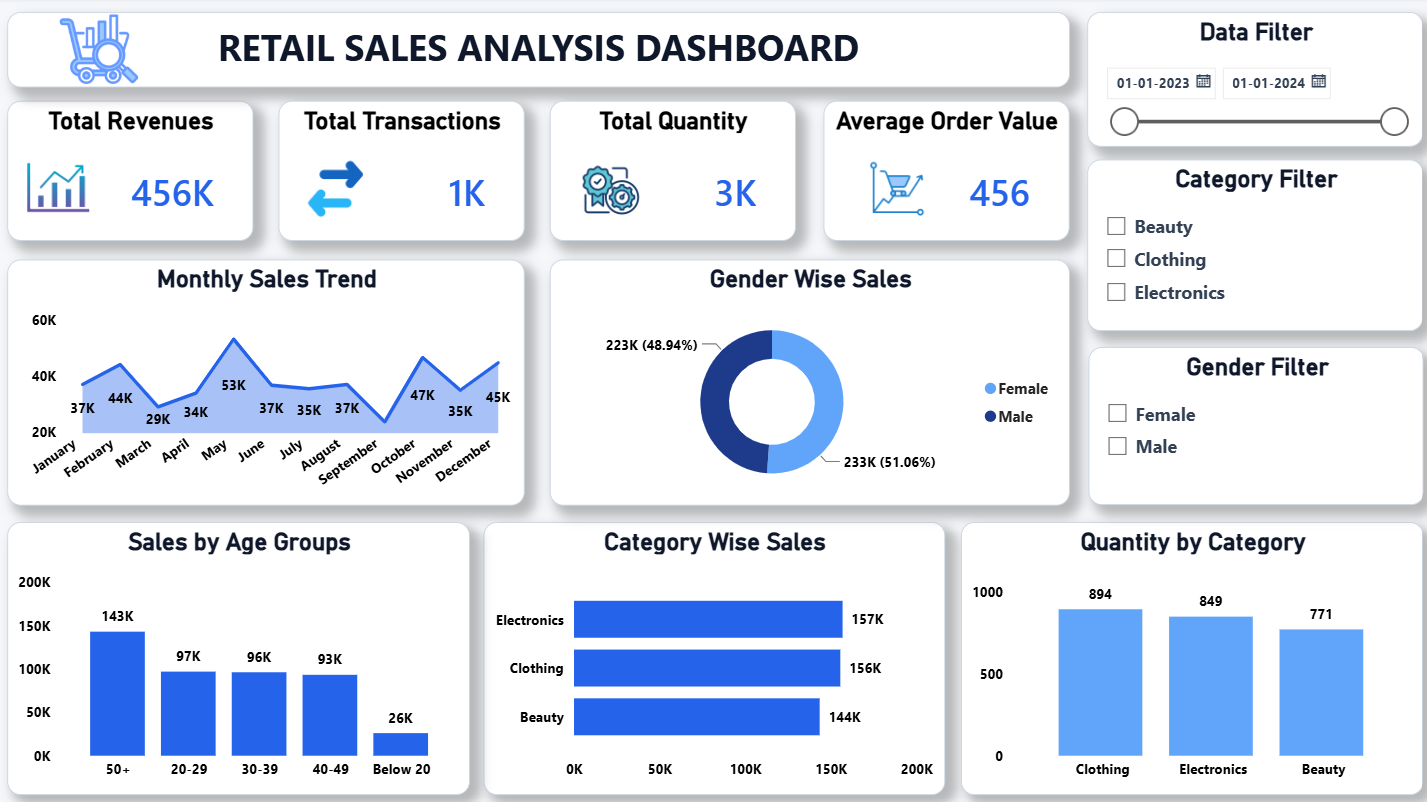

Layout of this report page (visuals, bound fields, positions):
{"tool":"powerbi","page":{"name":"DASHBOARD","canvas":[1280,720],"ordinal":0},"visuals":[{"type":"cardVisual","title":"Total Revenues","fields":{"Data":["Sum(retail_sales_dataset.Total Amount)"]},"box":[9.8,92.9,218.9,124.7],"z":0},{"type":"textbox","box":[9.8,13.5,946.5,67.3],"z":1000},{"type":"cardVisual","title":"Total Transactions","fields":{"Data":["CountNonNull(retail_sales_dataset.Transaction ID)"]},"box":[251.9,92.9,218.9,124.7],"z":2000},{"type":"cardVisual","title":"Total Quantity","fields":{"Data":["Sum(retail_sales_dataset.Quantity)"]},"box":[492.8,92.9,218.9,124.7],"z":3000},{"type":"cardVisual","title":"Average Order Value","fields":{"Data":["Avg(retail_sales_dataset.Total Amount)"]},"box":[737.4,92.9,218.9,124.7],"z":4000},{"type":"stackedAreaChart","title":"Monthly Sales Trend","fields":{"Category":["retail_sales_dataset.Date.Variation.Date Hierarchy.Month"],"Y":["Sum(retail_sales_dataset.Total Amount)"]},"box":[9.8,233.6,461,218.9],"z":5000},{"type":"clusteredBarChart","title":"Category Wise Sales","fields":{"Category":["retail_sales_dataset.Product Category"],"Y":["Sum(retail_sales_dataset.Total Amount)"]},"box":[434.1,467.1,410.9,243.3],"z":6000},{"type":"donutChart","title":"Gender Wise Sales","fields":{"Category":["retail_sales_dataset.Gender"],"Y":["Sum(retail_sales_dataset.Total Amount)"]},"box":[492.8,233.6,463.5,218.9],"z":7000},{"type":"clusteredColumnChart","title":"Quantity by Category","fields":{"Category":["retail_sales_dataset.Product Category"],"Y":["Sum(retail_sales_dataset.Quantity)"]},"box":[859.7,467.1,412.1,243.3],"z":8000},{"type":"clusteredColumnChart","title":"Sales by Age Groups","fields":{"Category":["retail_sales_dataset.Age Group"],"Y":["Sum(retail_sales_dataset.Total Amount)"]},"box":[9.8,467.1,412.1,243.3],"z":9000},{"type":"slicer","title":"Data Filter","fields":{"Values":["retail_sales_dataset.Date"]},"box":[972.2,13.5,299.6,119.8],"z":10000},{"type":"slicer","title":"Category Filter","fields":{"Values":["retail_sales_dataset.Product Category"]},"box":[972.2,144.3,299.6,152.9],"z":11000},{"type":"slicer","title":"Gender Filter","fields":{"Values":["retail_sales_dataset.Gender"]},"box":[973.4,311.8,299.6,140.6],"z":12000},{"type":"image","box":[27.7,132.7,55.5,74.8],"z":12001},{"type":"image","box":[520,133.9,55.5,74.8],"z":12002},{"type":"image","box":[275.1,133.9,55.5,74.8],"z":12003},{"type":"image","box":[774.5,133.9,55.5,74.8],"z":12004},{"type":"image","box":[55.8,9.3,72.1,75.6],"z":12005}]}

Visuals, with their boxes in screenshot pixels (x1, y1, x2, y2), scaled from the page's 1280x720 canvas onto the 1427x802 screenshot:
"Total Revenues" cardVisual: bbox=(11, 103, 255, 242)
textbox: bbox=(11, 15, 1066, 90)
"Total Transactions" cardVisual: bbox=(281, 103, 525, 242)
"Total Quantity" cardVisual: bbox=(549, 103, 793, 242)
"Average Order Value" cardVisual: bbox=(822, 103, 1066, 242)
"Monthly Sales Trend" stackedAreaChart: bbox=(11, 260, 525, 504)
"Category Wise Sales" clusteredBarChart: bbox=(484, 520, 942, 791)
"Gender Wise Sales" donutChart: bbox=(549, 260, 1066, 504)
"Quantity by Category" clusteredColumnChart: bbox=(958, 520, 1418, 791)
"Sales by Age Groups" clusteredColumnChart: bbox=(11, 520, 470, 791)
"Data Filter" slicer: bbox=(1084, 15, 1418, 148)
"Category Filter" slicer: bbox=(1084, 161, 1418, 331)
"Gender Filter" slicer: bbox=(1085, 347, 1419, 504)
image: bbox=(31, 148, 93, 231)
image: bbox=(580, 149, 642, 232)
image: bbox=(307, 149, 369, 232)
image: bbox=(863, 149, 925, 232)
image: bbox=(62, 10, 143, 95)
